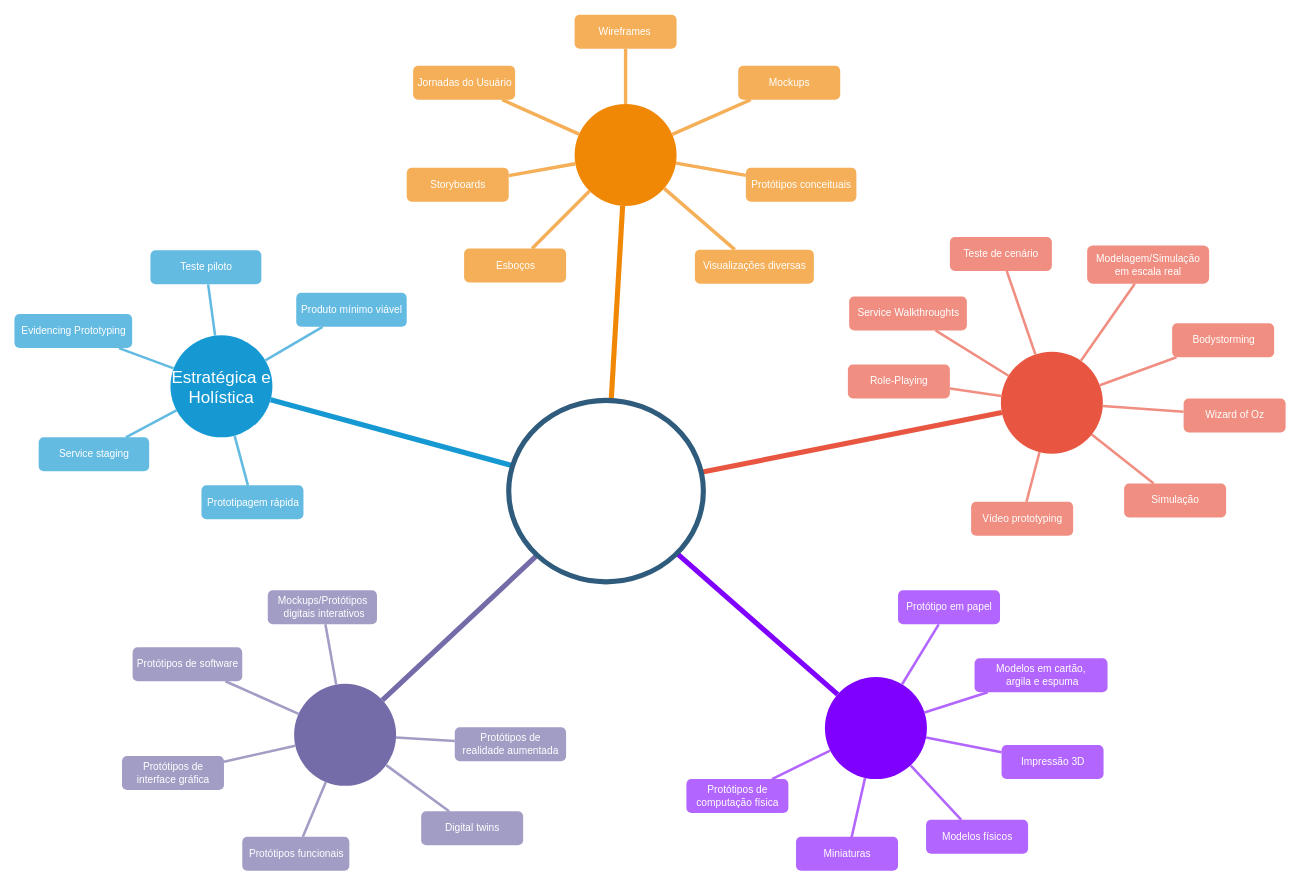
This 1301x886 diagram has some shape labels left out. The shapes that lost their labels are listed below. From the top down, each one's centre as x and y in pixels, then its label:
(x=625, y=155): Conceitual e Visual
(x=1051, y=402): Experiencial e Interação
(x=606, y=490): Categorias de Prototipagem
(x=345, y=734): Digital e Funcional
(x=875, y=728): Física e Tangível
